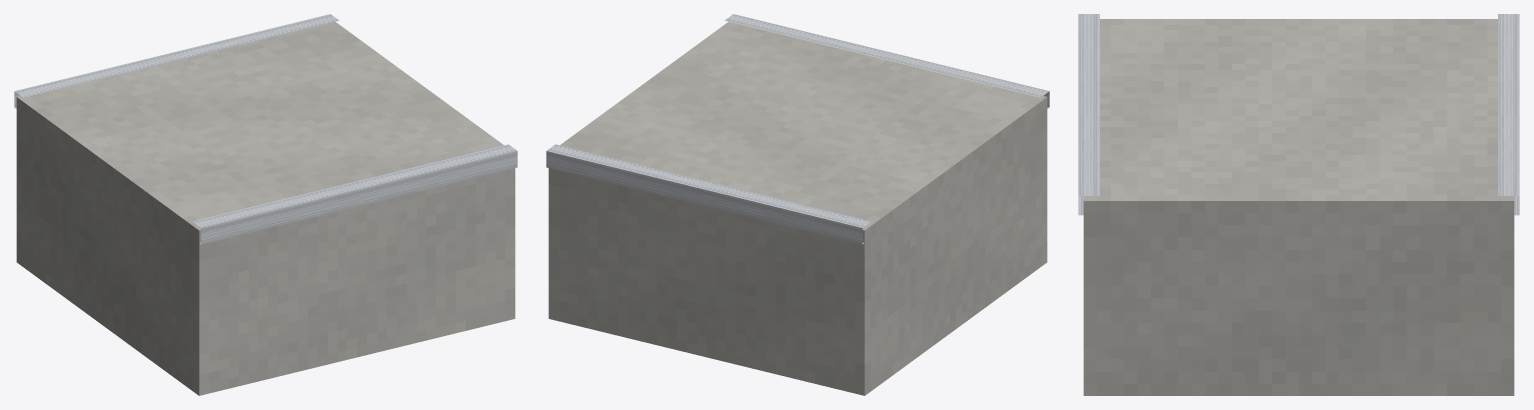
File: box_top.obj
3 views of the same model, side by side, from view 1: azimuth 30°, elevation 25°; view 2: azimuth 150°, elevation 25°; view 3: azimuth 270°, elevation 25° (orthographic). The views are drawn at different scales.
Parts seen in each view (by area): view 1: box_top; view 2: box_top; view 3: box_top.
Boxes of the visible parts, box(x1,y1,x2,y2) form: box_top: box(14, 14, 517, 395); box_top: box(546, 14, 1049, 395); box_top: box(1078, 14, 1519, 395).
Size of the model in its own units: 1 by 0.5125 by 1.03.
